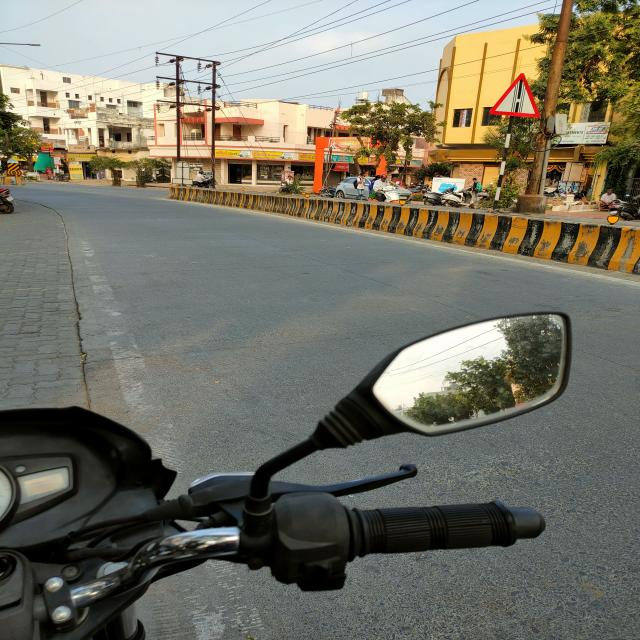GAP_IN_MEDIAN: (488, 72, 541, 117)
